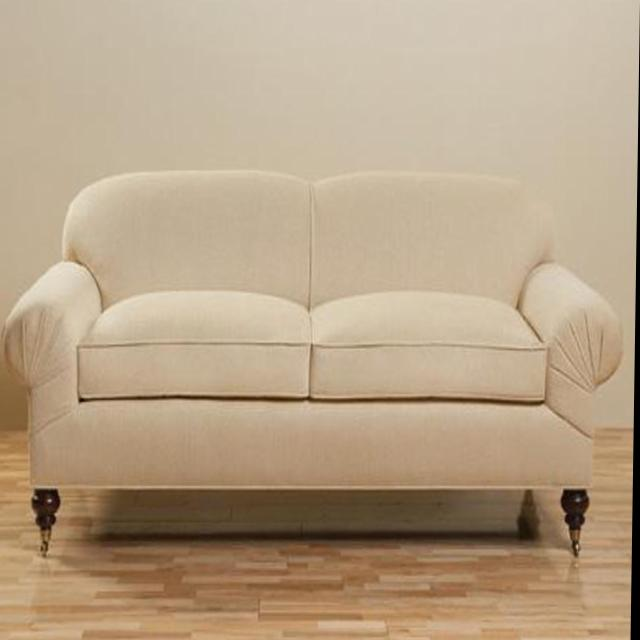Sofa: (4, 168, 627, 563)
